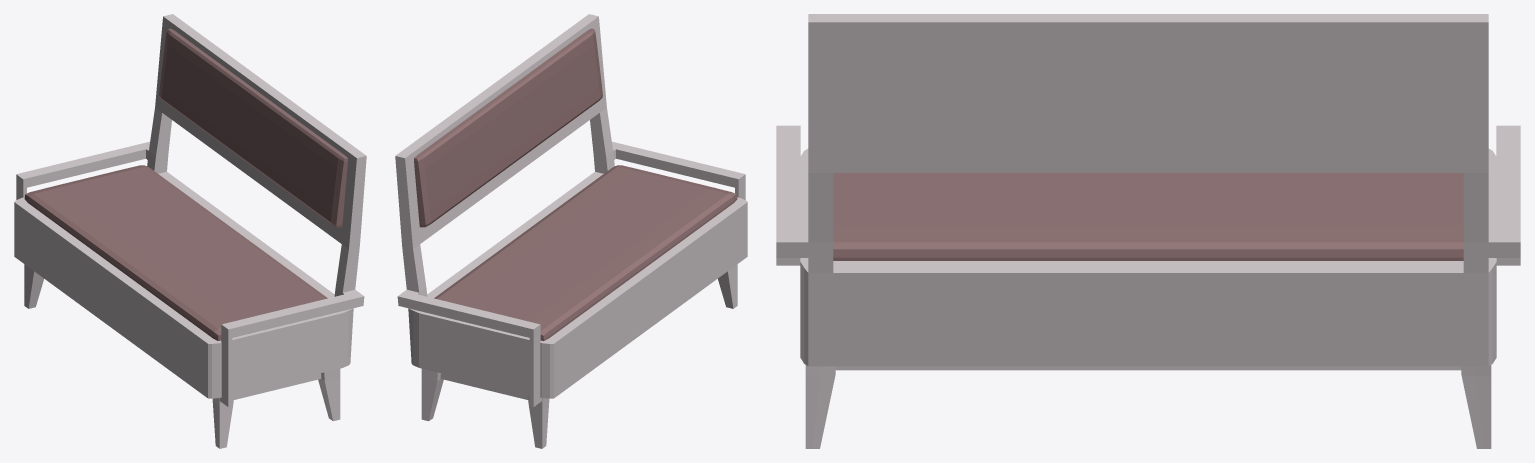
Rendered from BasicCoupleSofa.fbx.
3 views of the same model, side by side, from view 1: azimuth 30°, elevation 25°; view 2: azimuth 150°, elevation 25°; view 3: azimuth 270°, elevation 25° (orthographic). The views are drawn at different scales.
Parts seen in each view (by area): view 1: BasicCoupleSofa; view 2: BasicCoupleSofa; view 3: BasicCoupleSofa.
Boxes of the visible parts, x1=… form: BasicCoupleSofa: x1=14, y1=14, x2=366, y2=448; BasicCoupleSofa: x1=395, y1=14, x2=747, y2=448; BasicCoupleSofa: x1=776, y1=14, x2=1520, y2=448.
Bounding box in the file's own units: 72.77 × 112 × 168.
